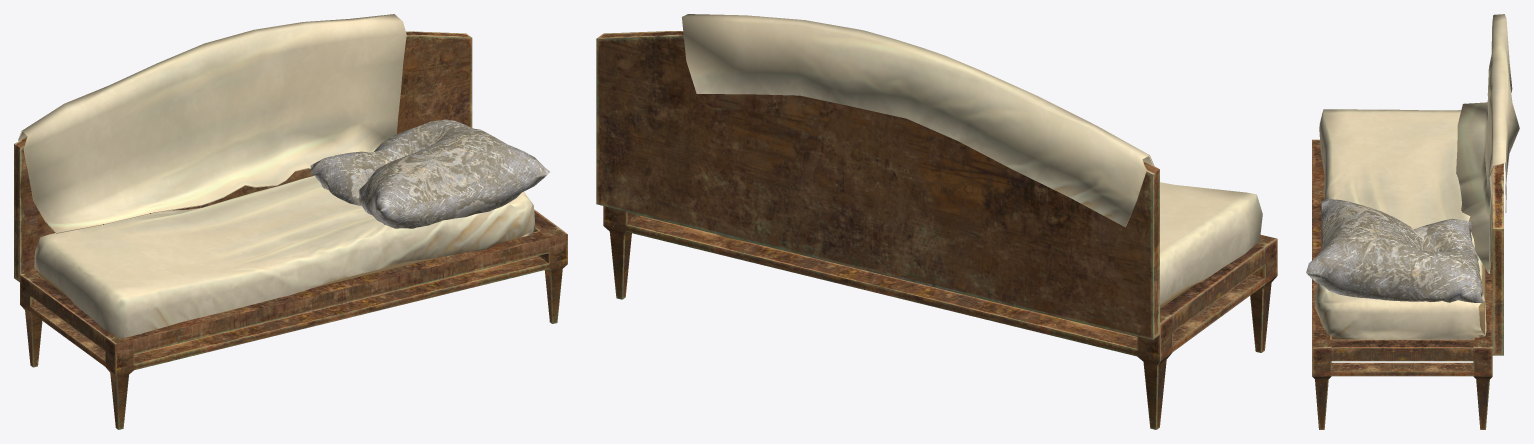
File: vintage_day_bed_1k.gltf
The picture shows the model from 3 angles, left to right: view 1: azimuth 30°, elevation 25°; view 2: azimuth 150°, elevation 25°; view 3: azimuth 270°, elevation 25°; orthographic projection. The views are drawn at different scales.
Parts seen in each view (by area): view 1: vintage_day_bed; view 2: vintage_day_bed; view 3: vintage_day_bed.
Part boxes in pixels (x1,y1,x2,y2): vintage_day_bed: [14, 14, 567, 429]; vintage_day_bed: [596, 14, 1277, 429]; vintage_day_bed: [1306, 14, 1519, 429].
Size of the model in its own units: 1.97 by 1.13 by 0.8548.
Materials: 1 (1 with a texture image).
